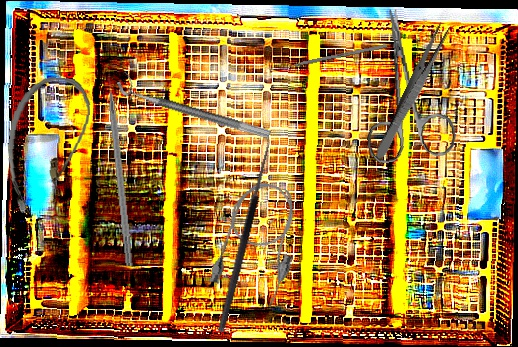Cannula: (206, 175, 312, 309), (1, 73, 94, 219)
Dressing Forceps: (373, 21, 452, 162)
Fixation Ring: (114, 69, 275, 141)
Hook Surgical: (207, 137, 274, 333), (105, 68, 135, 267)
Iris Scissors: (352, 3, 458, 165)
Pusher: (270, 43, 388, 73)
